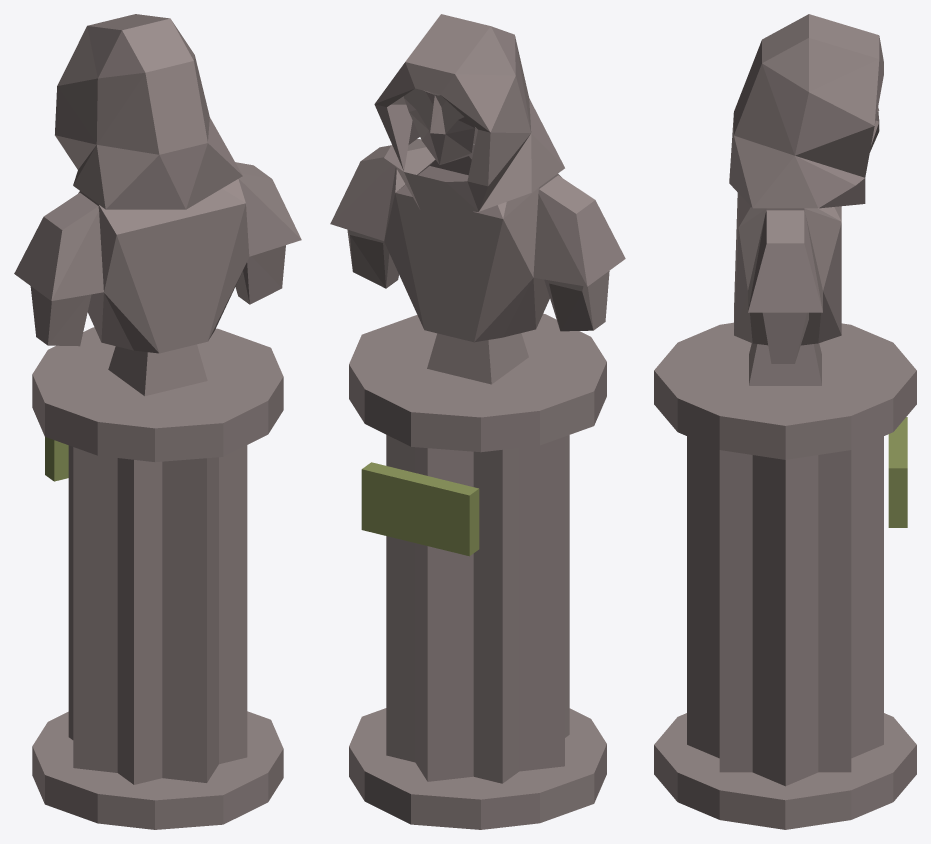
The model's file is obj_statue_1_0.obj.
3 renders of one model, left to right at view 1: azimuth 30°, elevation 25°; view 2: azimuth 150°, elevation 25°; view 3: azimuth 270°, elevation 25°, orthographic. The views are drawn at different scales.
Bounding box in the file's own units: 0.4844 × 1.38 × 0.4375.
